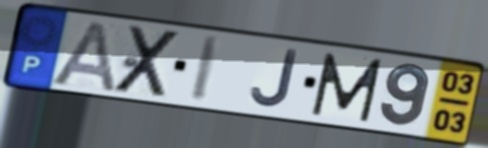9: (376, 61, 433, 130)
A: (45, 18, 120, 95)
I: (187, 34, 225, 105)
J: (248, 47, 301, 110)
M: (309, 50, 386, 125)
X: (109, 24, 185, 100)
